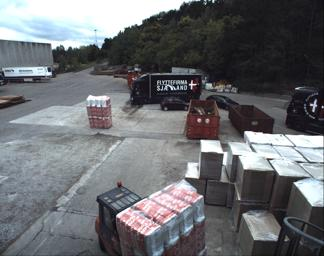rockwool_batts: (116, 182, 206, 255), (85, 94, 113, 127)
